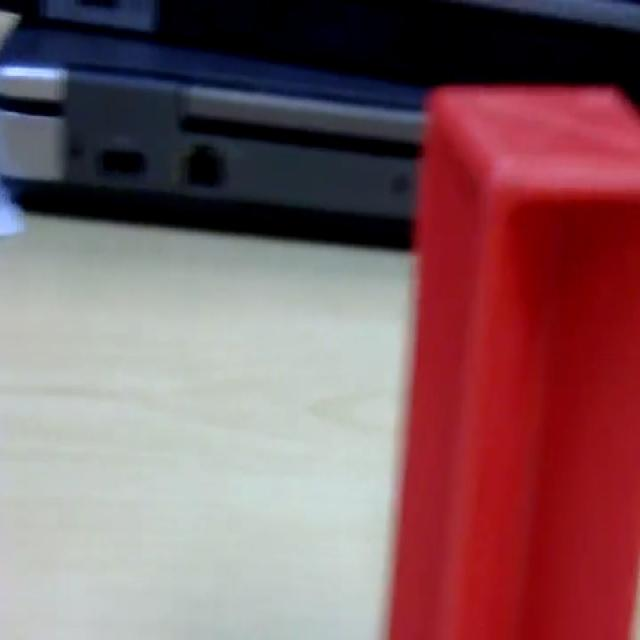red_block: (386, 81, 638, 636)
